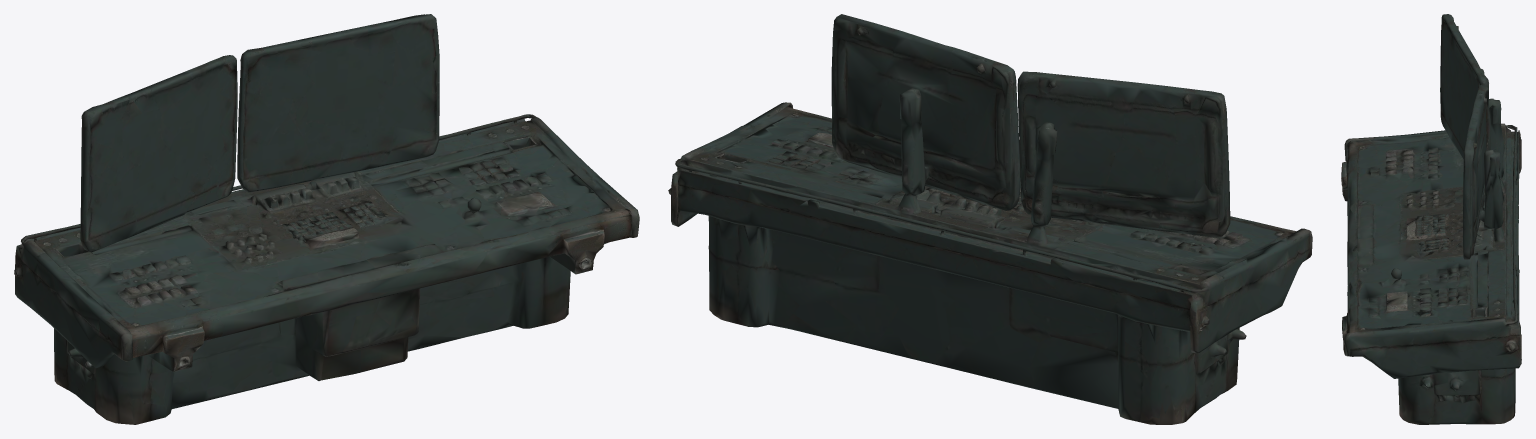
The model's file is console.glb.
The picture shows the model from 3 angles, left to right: view 1: azimuth 30°, elevation 25°; view 2: azimuth 150°, elevation 25°; view 3: azimuth 270°, elevation 25°; orthographic projection. The views are drawn at different scales.
Size of the model in its own units: 1.9 by 1.03 by 0.7194.
Materials: 1 (1 with a texture image).
